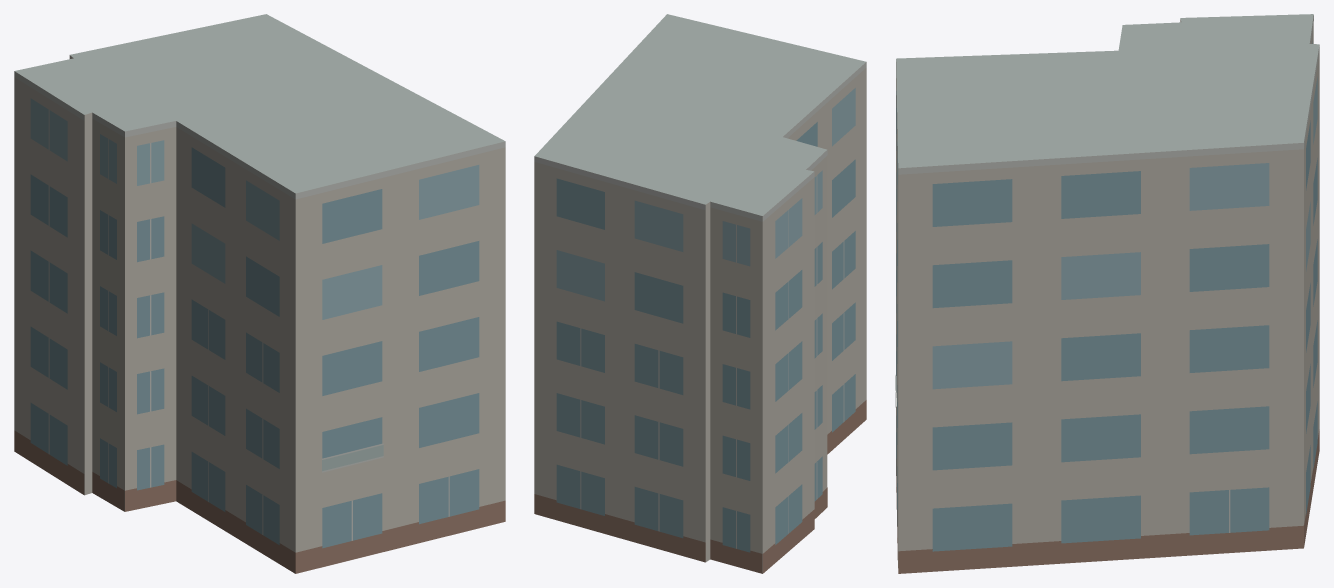
The model's file is survey-upis-32521109.glb.
The picture shows the model from 3 angles, left to right: view 1: azimuth 30°, elevation 25°; view 2: azimuth 150°, elevation 25°; view 3: azimuth 270°, elevation 25°; orthographic projection. The views are drawn at different scales.
Visible parts, largest first — view 1: survey-upis-32521109.tmp; view 2: survey-upis-32521109.tmp; view 3: survey-upis-32521109.tmp.
Part boxes in pixels (box(x1,y1,x2,y2)): survey-upis-32521109.tmp: box(14, 14, 505, 573); survey-upis-32521109.tmp: box(534, 14, 866, 573); survey-upis-32521109.tmp: box(895, 14, 1319, 573).
Size of the model in its own units: 12.61 by 15.45 by 14.66.
